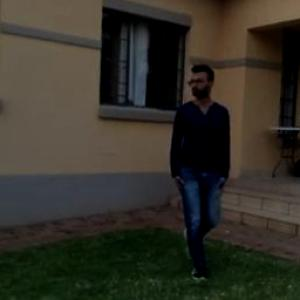follow: (166, 56, 234, 287)
